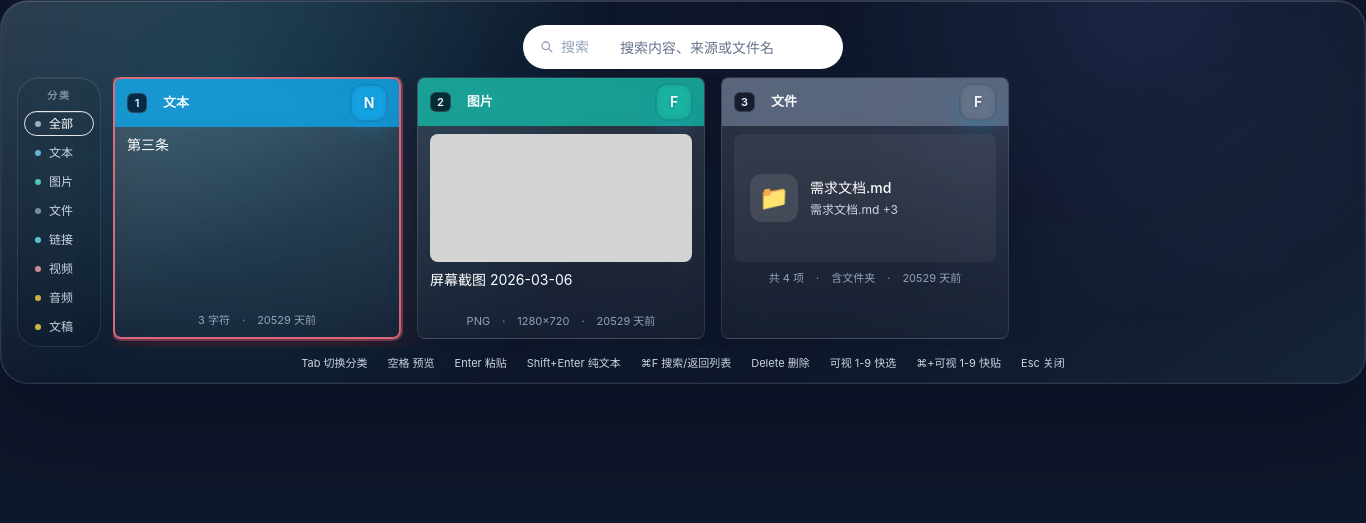
Test: MainPanel › UT-PANEL-012 右键未选中卡片时会先切换选中再弹出菜单
Right-click the element with test id "image-card": (561, 208) [417,77,705,338]
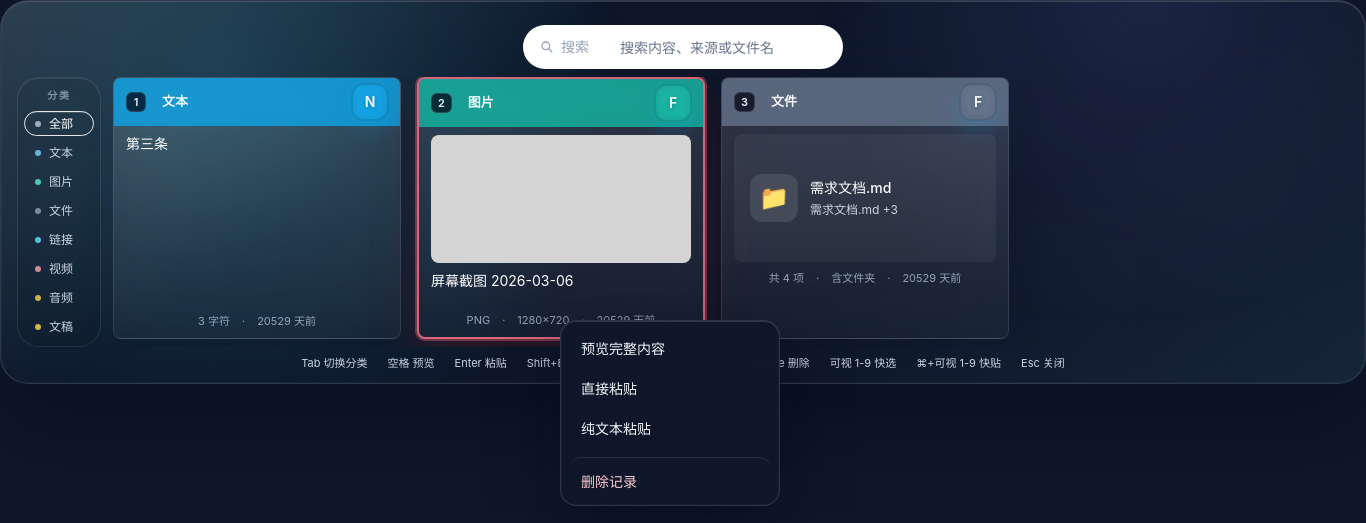
Result: the element with test id "card-context-menu" is shown at [560,320,780,506]
Result: the button with test id "card-context-menu-item-preview" is shown at [569,329,771,369]
Result: the button with test id "card-context-menu-item-paste_plain_text" is enabled at [569,409,771,449]
